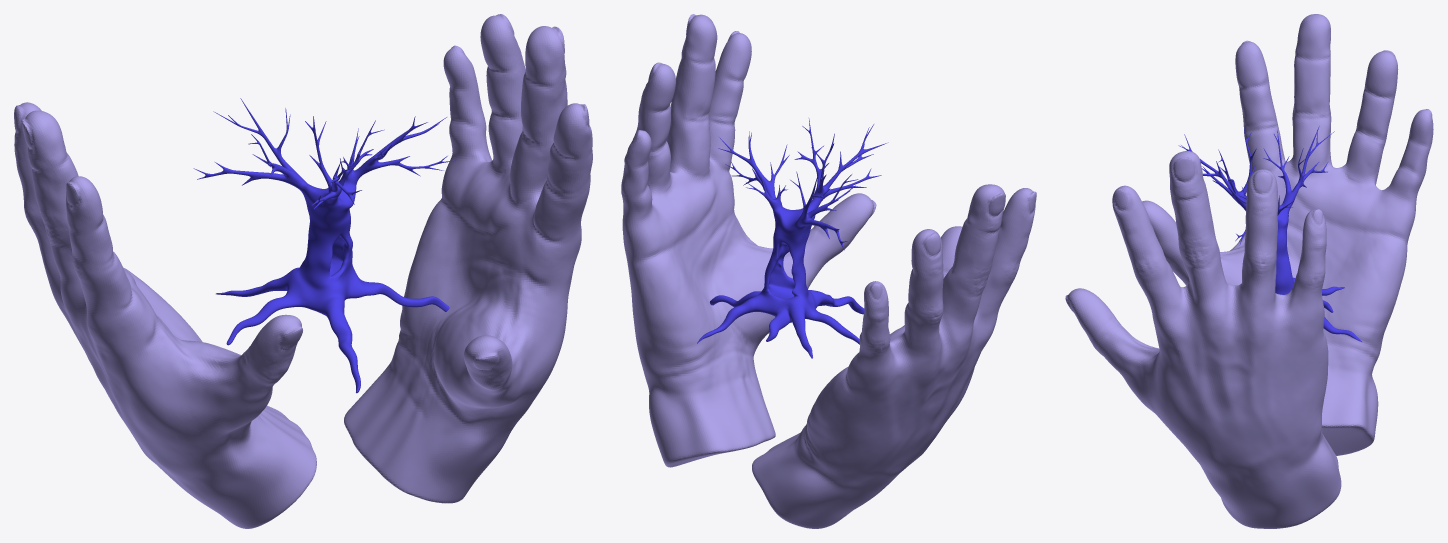
3 views of the same model, side by side, from view 1: azimuth 30°, elevation 25°; view 2: azimuth 150°, elevation 25°; view 3: azimuth 270°, elevation 25° (orthographic). The views are drawn at different scales.
Parts seen in each view (by area): view 1: uploads_files_3252214_hand, uploads_files_3252214_hand.001, Dead Tree.001; view 2: uploads_files_3252214_hand, uploads_files_3252214_hand.001, Dead Tree.001; view 3: uploads_files_3252214_hand, uploads_files_3252214_hand.001, Dead Tree.001.
Boxes of the visible parts, x1=… form: uploads_files_3252214_hand: x1=344, y1=14, x2=592, y2=503; uploads_files_3252214_hand.001: x1=14, y1=102, x2=316, y2=528; Dead Tree.001: x1=193, y1=98, x2=455, y2=393; uploads_files_3252214_hand: x1=621, y1=14, x2=876, y2=467; uploads_files_3252214_hand.001: x1=752, y1=184, x2=1036, y2=528; Dead Tree.001: x1=697, y1=118, x2=888, y2=358; uploads_files_3252214_hand: x1=1065, y1=151, x2=1341, y2=528; uploads_files_3252214_hand.001: x1=1142, y1=14, x2=1433, y2=455; Dead Tree.001: x1=1178, y1=126, x2=1361, y2=341.
Size of the model in its own units: 5.36 by 5.25 by 4.4.
